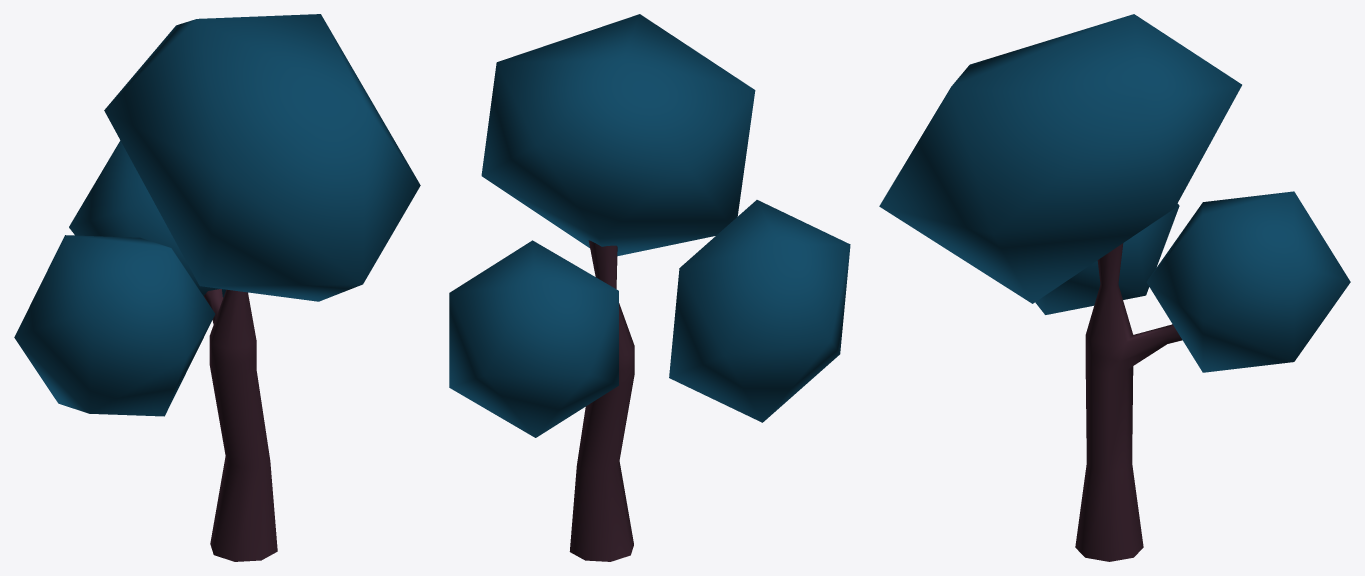
File: arvore_05.fbx
The picture shows the model from 3 angles, left to right: view 1: azimuth 30°, elevation 25°; view 2: azimuth 150°, elevation 25°; view 3: azimuth 270°, elevation 25°; orthographic projection. The views are drawn at different scales.
Visible parts, largest first — view 1: arvore_pequena; view 2: arvore_pequena; view 3: arvore_pequena.
Boxes of the visible parts, x1,y1,x2,y2 form: arvore_pequena: (14,14,420,561); arvore_pequena: (449,14,850,561); arvore_pequena: (879,14,1350,561).
Bounding box in the file's own units: 150 × 215 × 177.
